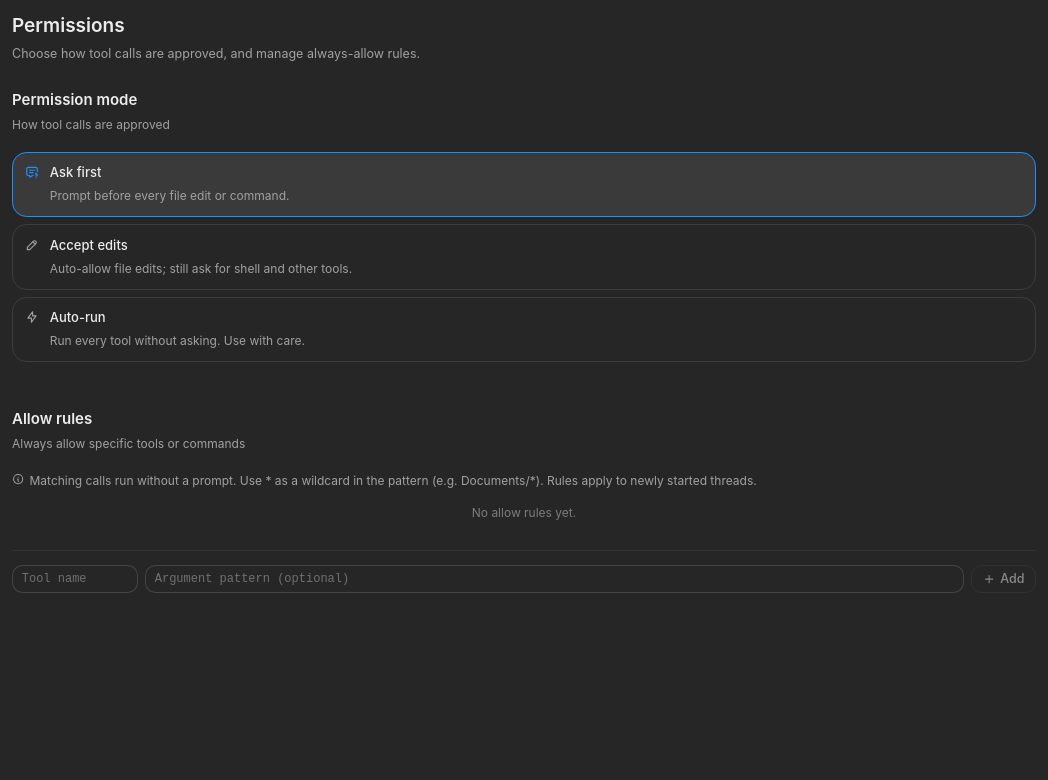
Scenario: PermissionsSection › warns when the tool name is not a known built-in
This screenshot has width=1048, height=780.
Type "mystery_tool" into the field labelled "Tool name" at [75, 579], box [12,565,138,593]
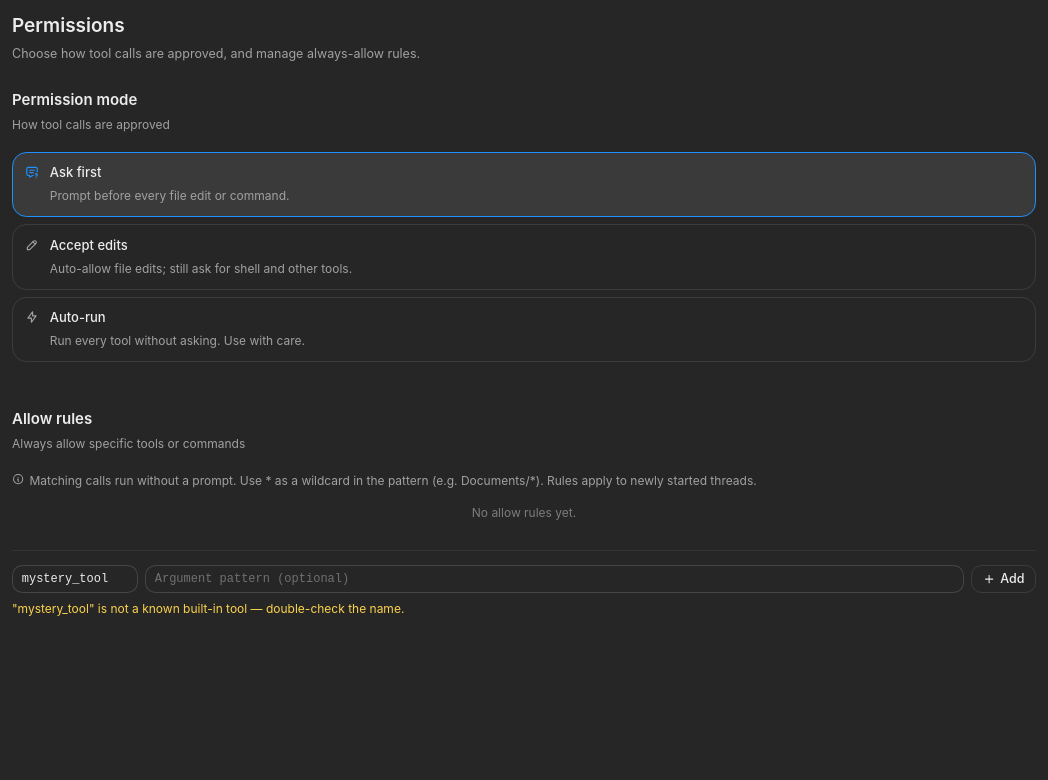
Result: the text "not a known built-in tool" is shown at [12,601,404,616]
